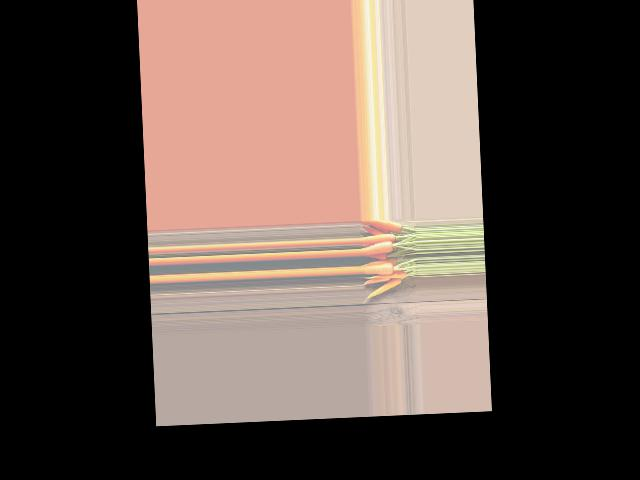carrot: (339, 290, 408, 323)
